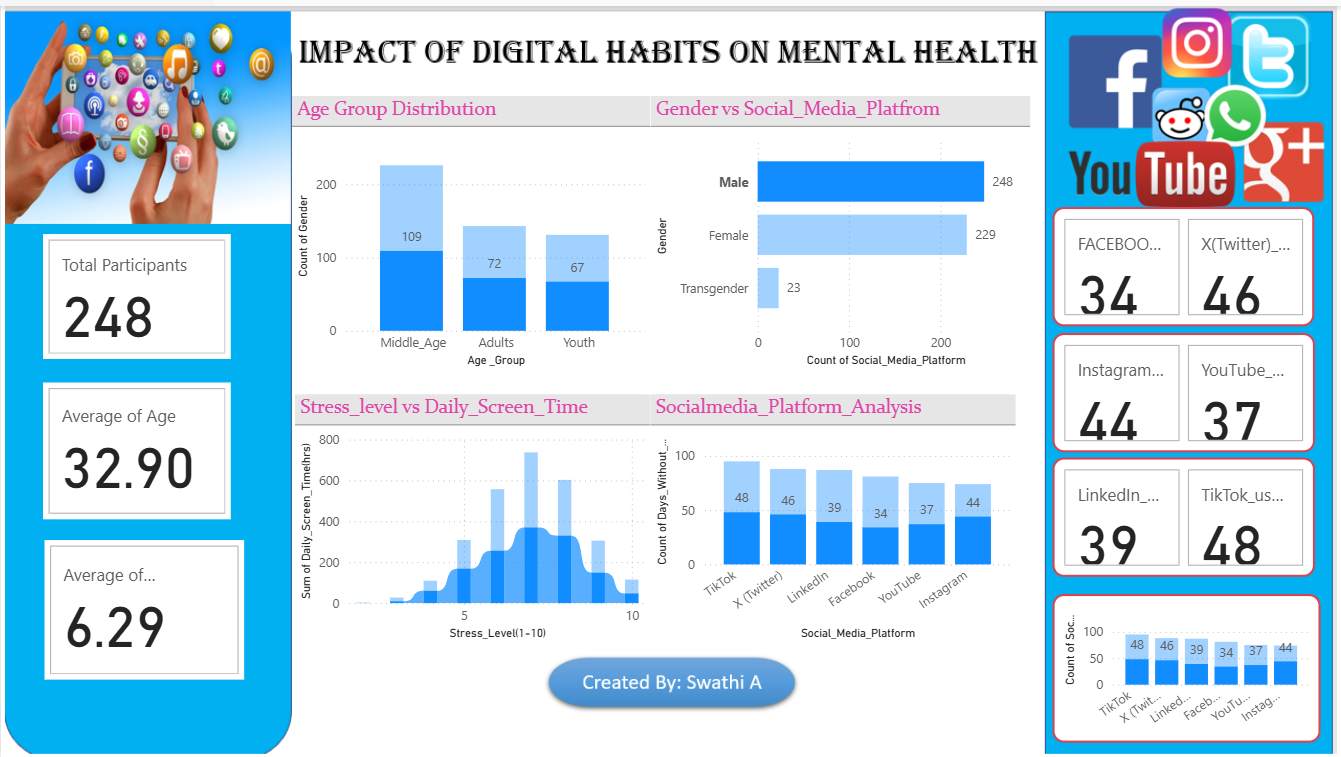

The dashboard page shown, as its layout file describes it:
{"tool":"powerbi","page":{"name":"Page 1","canvas":[1280,720],"ordinal":0},"visuals":[{"type":"cardVisual","fields":{"Data":["cleaned data.Total Participants"]},"box":[39.7,217.3,179.5,119.1],"z":0},{"type":"columnChart","title":"Age Group Distribution","fields":{"Category":["cleaned data.Age _Group"],"Y":["CountNonNull(cleaned data.Gender)"]},"box":[278.1,85.9,342.2,262.5],"z":1000},{"type":"cardVisual","fields":{"Data":["Avg(cleaned data.Age)"]},"box":[39.7,359.1,179.5,130.4],"z":2000},{"type":"cardVisual","fields":{"Data":["Avg(cleaned data.Sleep_Quality(1-10))"]},"box":[41.3,509.5,190.5,133.3],"z":3000},{"type":"ribbonChart","title":"Stress_level vs Daily_Screen_Time","fields":{"Category":["cleaned data.Stress_Level(1-10)"],"Y":["Sum(cleaned data.Daily_Screen_Time(hrs))"]},"box":[281.2,370.3,339.1,237.5],"z":4000},{"type":"clusteredBarChart","title":"Gender vs Social_Media_Platfrom","fields":{"Category":["cleaned data.Gender"],"Y":["CountNonNull(cleaned data.Social_Media_Platform)"]},"box":[620.3,85.9,362.5,262.5],"z":5000},{"type":"clusteredColumnChart","title":"Socialmedia_Platform_Analysis","fields":{"Y":["CountNonNull(cleaned data.Days_Without_Social_Media)"],"Category":["cleaned data.Social_Media_Platform"]},"box":[620.3,370.3,348.4,237.5],"z":6000},{"type":"cardVisual","fields":{"Data":["cleaned data.No_ of_FACEBOOK_Users","cleaned data.X(Twitter)_users"]},"box":[1004.8,192.1,250,114],"z":7000},{"type":"columnChart","fields":{"Category":["cleaned data.Social_Media_Platform"],"Y":["CountNonNull(cleaned data.Social_Media_Platform)"]},"box":[1004.7,560.9,256.2,142.2],"z":8000},{"type":"cardVisual","fields":{"Data":["cleaned data.Instagram_users","cleaned data.YouTube_users"]},"box":[1004.8,312.7,250.8,114.3],"z":9000},{"type":"cardVisual","fields":{"Data":["cleaned data.LinkdIn_users","cleaned data.TikTok_users"]},"box":[1004.8,431.7,250.8,114.3],"z":10000},{"type":"image","box":[508.4,568.8,262.7,151.2],"z":10001}]}

Visuals, with their boxes in screenshot pixels (x1, y1, x2, y2), scaled from the page's 1280x720 canvas onto the 1341x757 screenshot:
cardVisual - cleaned data.Total Participants: box=[42, 228, 230, 354]
"Age Group Distribution" columnChart: box=[291, 90, 650, 366]
cardVisual - Avg(cleaned data.Age): box=[42, 378, 230, 515]
cardVisual - Avg(cleaned data.Sleep_Quality(1-10)): box=[43, 536, 243, 676]
"Stress_level vs Daily_Screen_Time" ribbonChart: box=[295, 389, 650, 639]
"Gender vs Social_Media_Platfrom" clusteredBarChart: box=[650, 90, 1030, 366]
"Socialmedia_Platform_Analysis" clusteredColumnChart: box=[650, 389, 1015, 639]
cardVisual - cleaned data.No_ of_FACEBOOK_Users x cleaned data.X(Twitter)_users: box=[1053, 202, 1315, 322]
columnChart - cleaned data.Social_Media_Platform x CountNonNull(cleaned data.Social_Media_Platform): box=[1053, 590, 1321, 739]
cardVisual - cleaned data.Instagram_users x cleaned data.YouTube_users: box=[1053, 329, 1315, 449]
cardVisual - cleaned data.LinkdIn_users x cleaned data.TikTok_users: box=[1053, 454, 1315, 574]
image: box=[533, 598, 808, 756]
